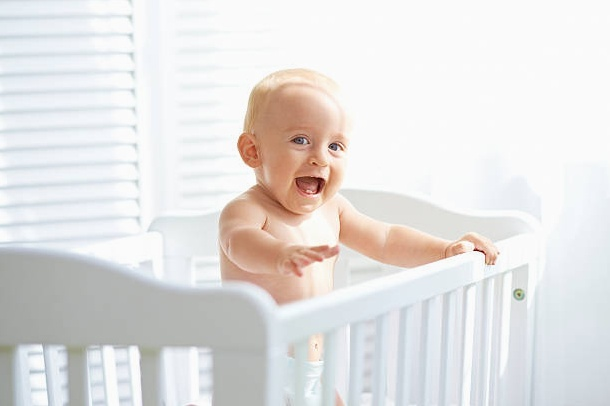baby: (219, 69, 497, 303)
crib: (0, 190, 541, 405)
